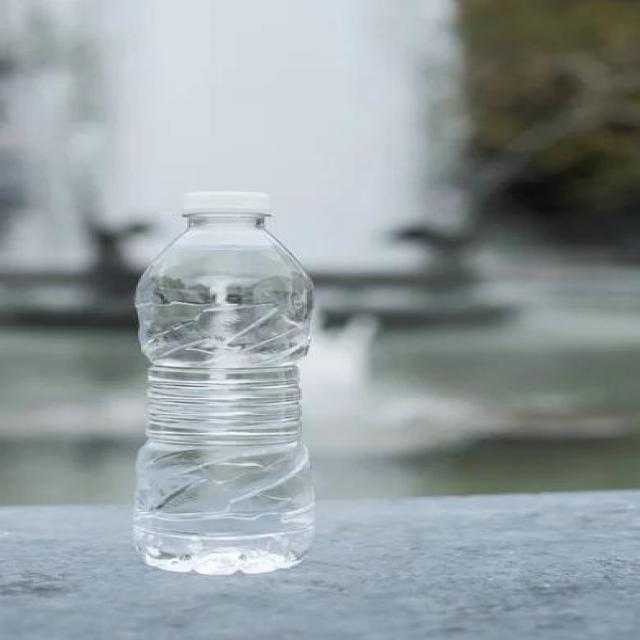bottle: (129, 195, 328, 588)
